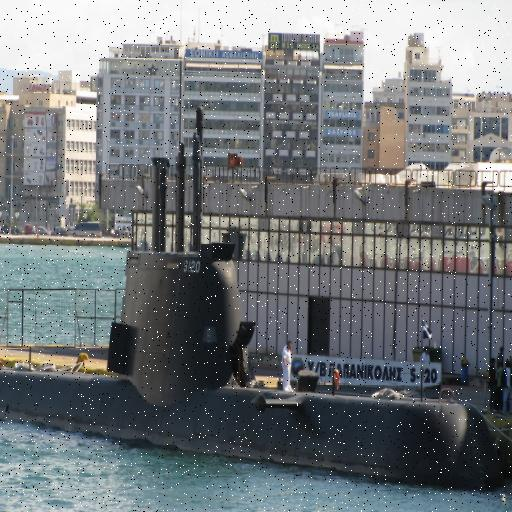submarine: (1, 110, 508, 493)
